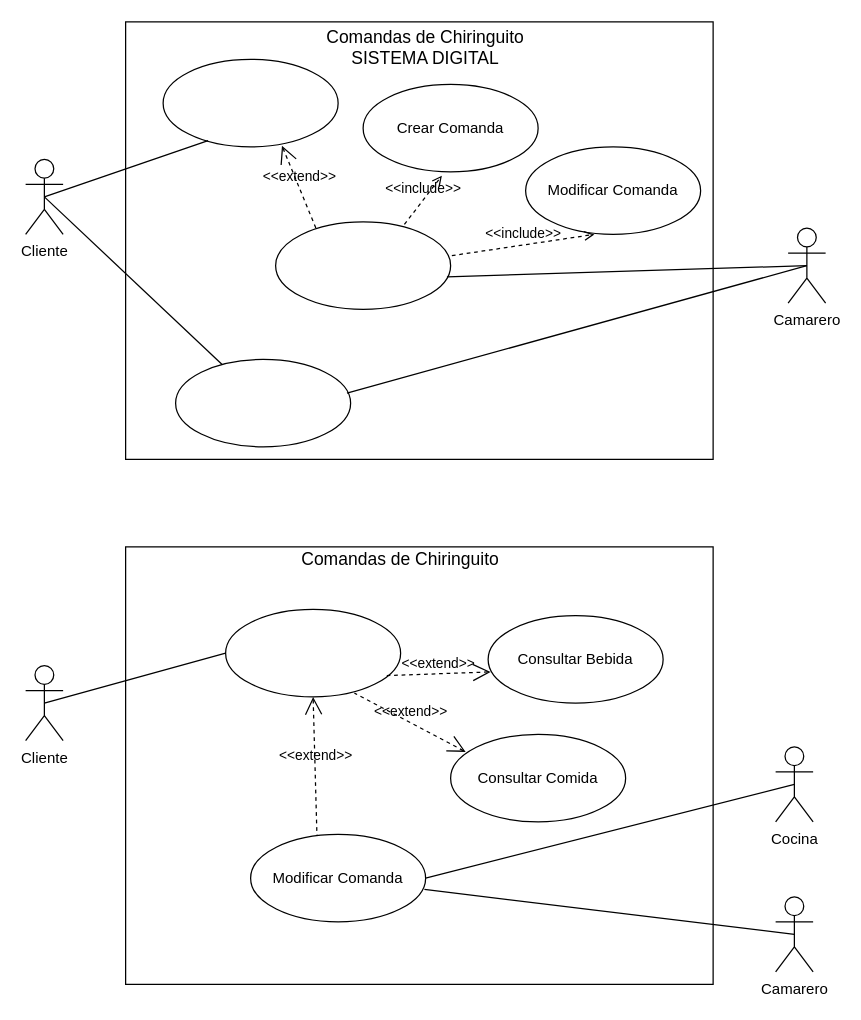
Some shapes in this 861 by 1020 pixel diagram are drawn without their labels. The shapes that lost their labels are listed below. From the top down, each one's centre as x and y in pixels, then its label:
At [250,102]: "Consultar Carta".
At [362,265]: "Gestionar Comanda".
At [262,402]: "Cerrar Comanda".
At [312,652]: "Consulta de Carta".
